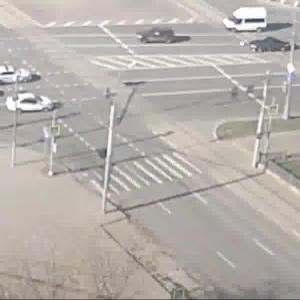car: (7, 93, 58, 115), (226, 8, 269, 34), (137, 25, 184, 48), (252, 37, 296, 55), (1, 65, 31, 85)
